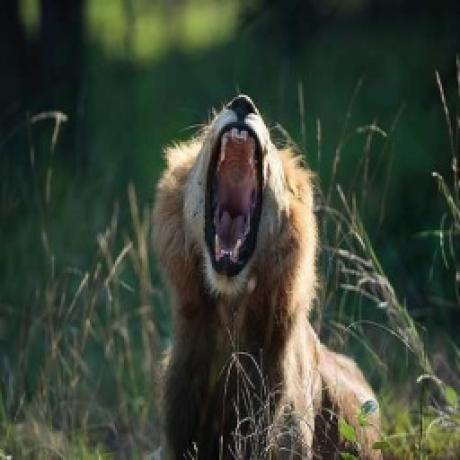Lion: (145, 78, 387, 460)
